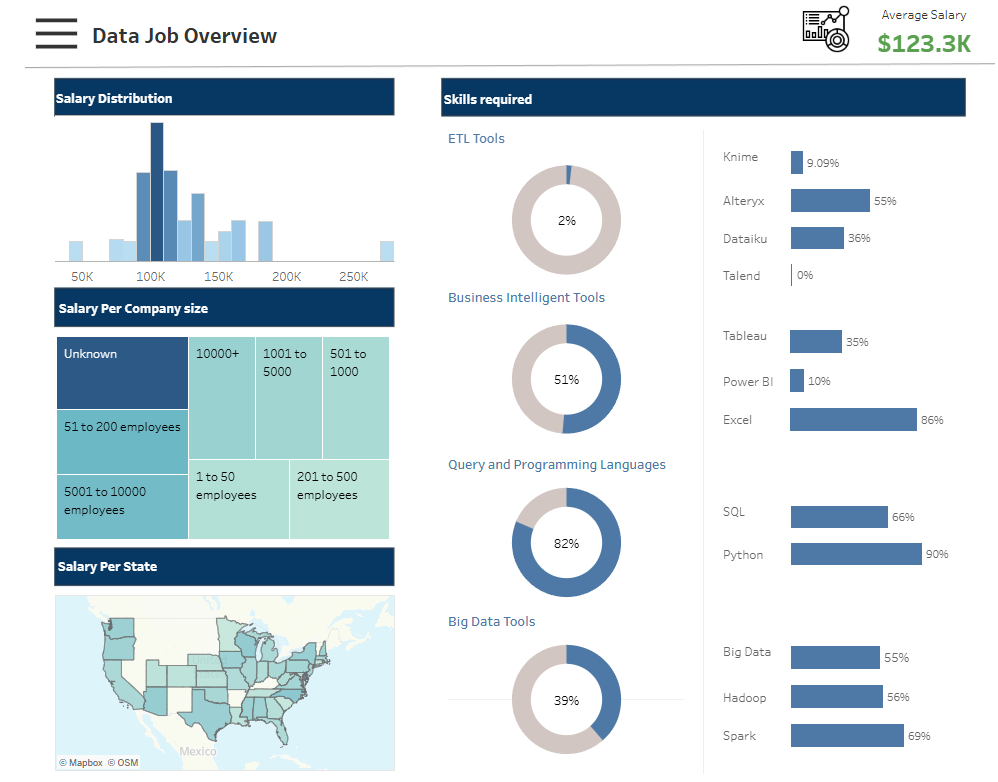

This screenshot's page, from the dashboard's own definition file:
{"tool":"tableau","page":{"name":"Dashboard 1","canvas":[1000,800],"ordinal":0},"visuals":[{"type":"image","param":"Image/2329087.png","box":[788,1,56,63]},{"type":"text","box":[848,5,132,26]},{"type":"image","param":"Image/canvas-gris.png","box":[8,8,984,784]},{"type":"dashboard-object","box":[14,11,64,53]},{"type":"text","box":[78,11,269,53]},{"type":"worksheet","title":"Average salary (2)","mark":"Automatic","box":[848,31,132,29]},{"type":"filter","title":"Sheet 21","param":"[federated.0vj782t0nw4t5l17dyfo50gzt8u6].[none:Job Category:nk]","box":[13,83,391,176]},{"type":"text","box":[46,86,134,30]},{"type":"text","box":[434,87,100,30]},{"type":"worksheet","title":"Average salary","mark":"Automatic","rows":["avg_salary"],"cols":["Avg Salary (bin)"],"box":[45,119,340,168]},{"type":"text","box":[434,128,245,27]},{"type":"text","box":[709,147,68,26]},{"type":"worksheet","title":"Knime","mark":"Automatic","cols":["Calculation_776870973645299757"],"box":[777,147,192,38]},{"type":"worksheet","title":"ETL","mark":"Pie","rows":["Calculation_776870973669539907","Calculation_776870973669548101"],"box":[434,155,245,138]},{"type":"text","box":[709,185,68,38]},{"type":"worksheet","title":"Alteryx","mark":"Automatic","cols":["Calculation_776870973644316715"],"box":[777,185,192,38]},{"type":"text","box":[709,223,68,37]},{"type":"worksheet","title":"Dataiku","mark":"Automatic","cols":["Calculation_776870973645131820"],"box":[777,223,192,37]},{"type":"filter","title":"Sheet 21","param":"[federated.0vj782t0nw4t5l17dyfo50gzt8u6].[none:Size:nk]","box":[13,259,391,176]},{"type":"text","box":[709,260,68,37]},{"type":"worksheet","title":"Talend","mark":"Automatic","cols":["Calculation_776870973644058665"],"box":[777,260,192,37]},{"type":"text","box":[434,287,245,27]},{"type":"text","box":[49,296,153,30]},{"type":"worksheet","title":"BI","mark":"Pie","rows":["Calculation_776870973669539907","Calculation_776870973669548101"],"box":[434,314,245,138]},{"type":"text","box":[709,326,67,26]},{"type":"worksheet","title":"Tableau","mark":"Automatic","cols":["Calculation_776870973642932262"],"box":[776,326,193,39]},{"type":"worksheet","title":"Sheet 21","mark":"Automatic","box":[42,336,341,211]},{"type":"text","box":[709,365,67,39]},{"type":"worksheet","title":"PowerBI","mark":"Automatic","cols":["Calculation_957296433975169024"],"box":[776,365,193,39]},{"type":"text","box":[709,404,67,38]},{"type":"worksheet","title":"Excel","mark":"Automatic","cols":["Calculation_776870973643030567"],"box":[776,404,193,38]},{"type":"filter","title":"Sheet 21","param":"[federated.0vj782t0nw4t5l17dyfo50gzt8u6].[none:Sector:nk]","box":[13,435,391,176]},{"type":"text","box":[434,449,245,38]},{"type":"worksheet","title":"SQL+Python","mark":"Pie","rows":["Calculation_776870973669539907","Calculation_776870973669548101"],"box":[434,487,245,119]},{"type":"text","box":[709,502,68,26]},{"type":"worksheet","title":"SQL","mark":"Automatic","cols":["Calculation_776870973645475886"],"box":[777,502,193,37]},{"type":"text","box":[709,539,68,37]},{"type":"worksheet","title":"Python","mark":"Automatic","cols":["Calculation_776870973645565999"],"box":[777,539,193,37]},{"type":"text","box":[48,554,105,30]},{"type":"worksheet","title":"Avg_salary_map","mark":"Multipolygon","box":[45,599,340,176]},{"type":"text","box":[434,609,245,32]},{"type":"filter","title":"Sheet 21","param":"[federated.0vj782t0nw4t5l17dyfo50gzt8u6].[none:Industry:nk]","box":[13,611,391,175]},{"type":"worksheet","title":"BigData","mark":"Pie","rows":["Calculation_776870973669539907","Calculation_776870973669548101"],"box":[434,641,245,125]},{"type":"text","box":[709,642,68,26]},{"type":"worksheet","title":"Big Data","mark":"Automatic","cols":["Calculation_776870973646147635"],"box":[777,642,211,39]},{"type":"text","box":[709,681,68,39]},{"type":"worksheet","title":"Hadoop","mark":"Automatic","cols":["Calculation_776870973645987890"],"box":[777,681,211,39]},{"type":"text","box":[709,720,68,38]},{"type":"worksheet","title":"Spark","mark":"Automatic","cols":["Calculation_776870973645897777"],"box":[777,720,211,38]}]}

Visuals, with their boxes in screenshot pixels (x1, y1, x2, y2), scaled from the page's 1000x800 canvas onto the 998x782 screenshot:
image: [786, 1, 842, 63]
text: [846, 5, 978, 30]
image: [8, 8, 990, 774]
dashboard-object: [14, 11, 78, 63]
text: [78, 11, 346, 63]
"Average salary (2)" worksheet: [846, 30, 978, 59]
"Sheet 21" filter: [13, 81, 403, 253]
text: [46, 84, 180, 113]
text: [433, 85, 533, 114]
"Average salary" worksheet: [45, 116, 384, 281]
text: [433, 125, 678, 152]
text: [708, 144, 775, 169]
"Knime" worksheet: [775, 144, 967, 181]
"ETL" worksheet (Pie marks): [433, 152, 678, 286]
text: [708, 181, 775, 218]
"Alteryx" worksheet: [775, 181, 967, 218]
text: [708, 218, 775, 254]
"Dataiku" worksheet: [775, 218, 967, 254]
"Sheet 21" filter: [13, 253, 403, 425]
text: [708, 254, 775, 290]
"Talend" worksheet: [775, 254, 967, 290]
text: [433, 281, 678, 307]
text: [49, 289, 202, 319]
"BI" worksheet (Pie marks): [433, 307, 678, 442]
text: [708, 319, 774, 344]
"Tableau" worksheet: [774, 319, 967, 357]
"Sheet 21" worksheet: [42, 328, 382, 535]
text: [708, 357, 774, 395]
"PowerBI" worksheet: [774, 357, 967, 395]
text: [708, 395, 774, 432]
"Excel" worksheet: [774, 395, 967, 432]
"Sheet 21" filter: [13, 425, 403, 597]
text: [433, 439, 678, 476]
"SQL+Python" worksheet (Pie marks): [433, 476, 678, 592]
text: [708, 491, 775, 516]
"SQL" worksheet: [775, 491, 968, 527]
text: [708, 527, 775, 563]
"Python" worksheet: [775, 527, 968, 563]
text: [48, 542, 153, 571]
"Avg_salary_map" worksheet (Multipolygon marks): [45, 586, 384, 758]
text: [433, 595, 678, 627]
"Sheet 21" filter: [13, 597, 403, 768]
"BigData" worksheet (Pie marks): [433, 627, 678, 749]
text: [708, 628, 775, 653]
"Big Data" worksheet: [775, 628, 986, 666]
text: [708, 666, 775, 704]
"Hadoop" worksheet: [775, 666, 986, 704]
text: [708, 704, 775, 741]
"Spark" worksheet: [775, 704, 986, 741]
